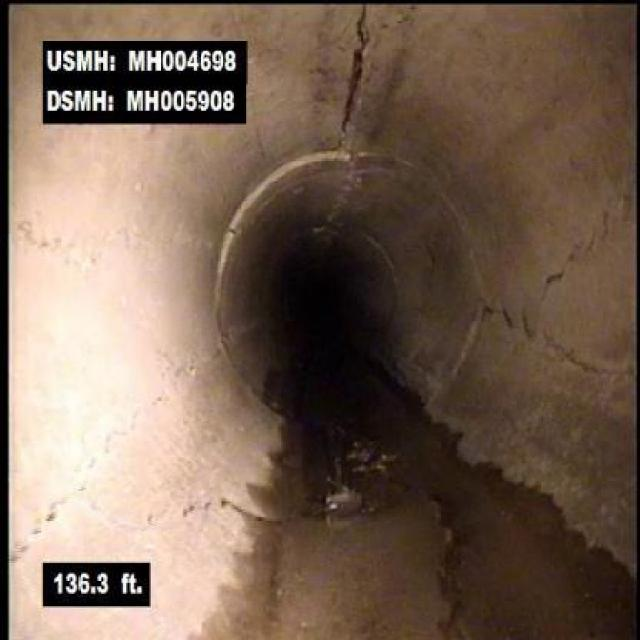Crack: (12, 477, 251, 532), (484, 304, 634, 378), (543, 191, 634, 297), (428, 482, 486, 638), (89, 391, 168, 474), (332, 6, 377, 139), (20, 220, 100, 274)
